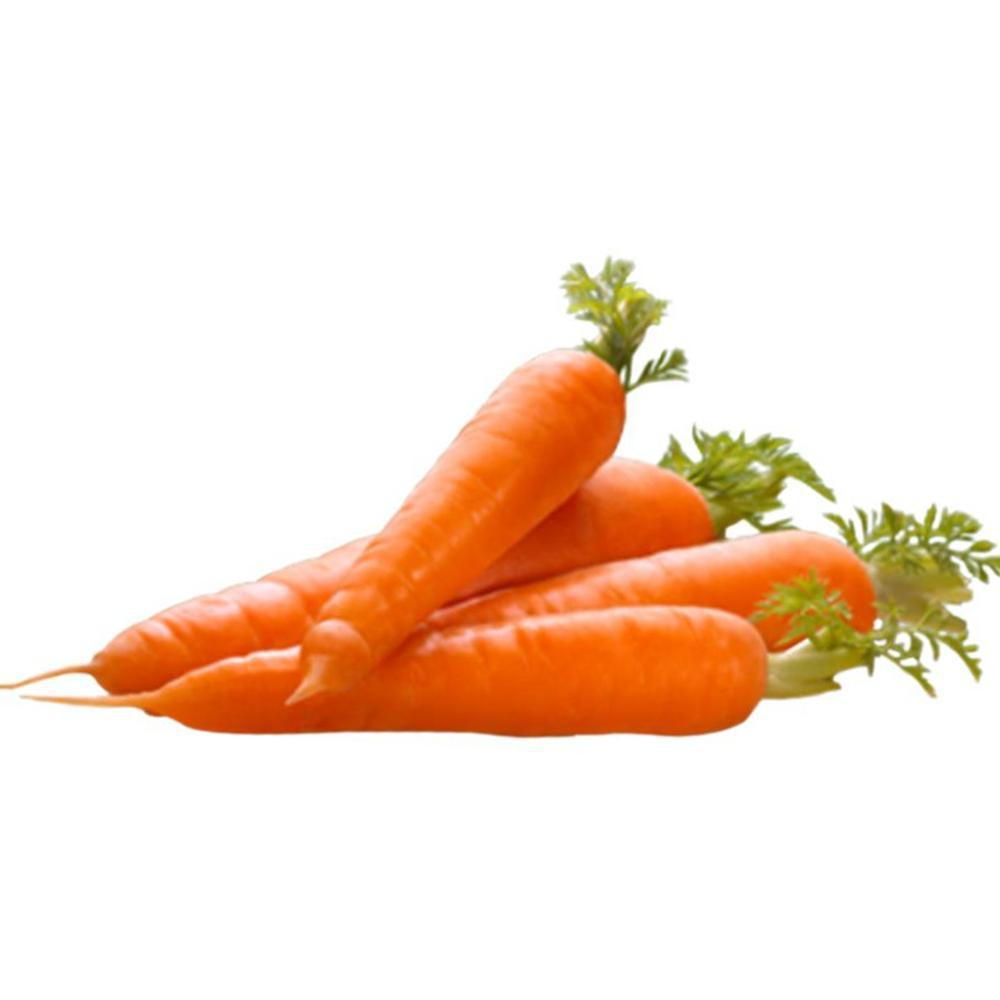carrot: (83, 354, 956, 745)
